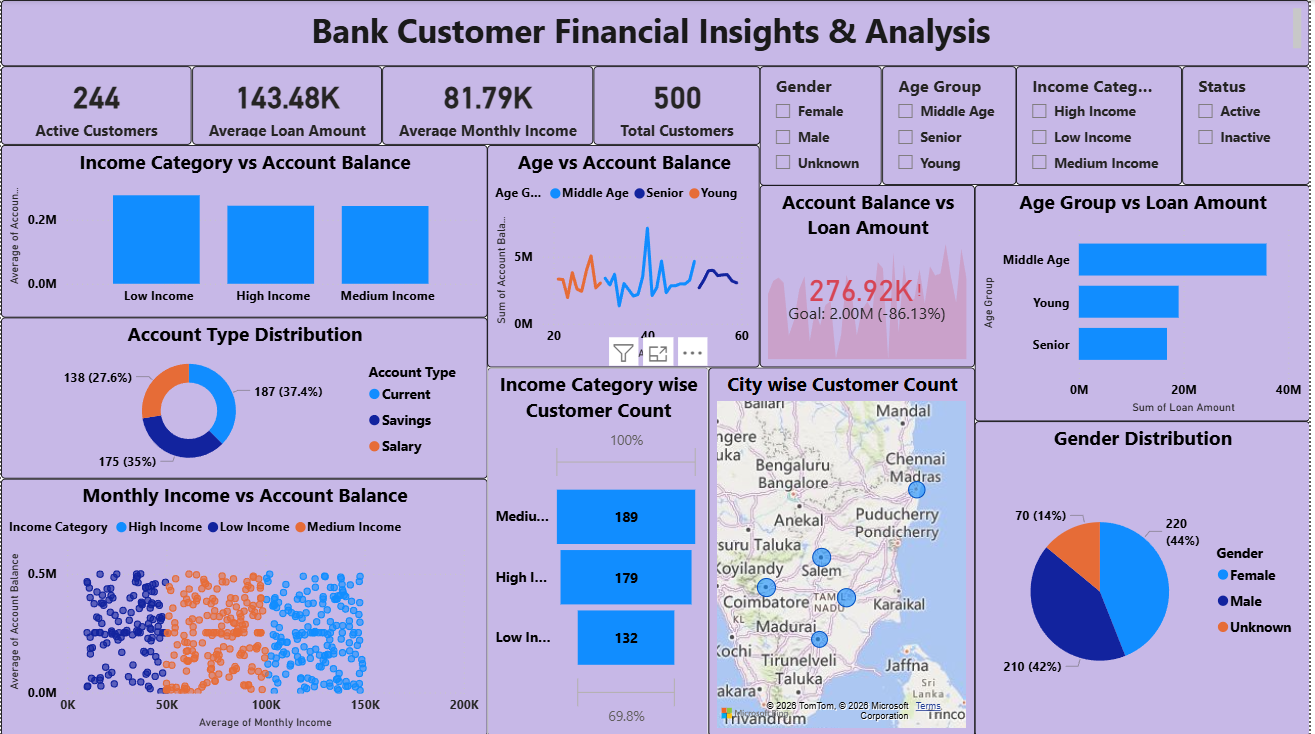

Layout of this report page (visuals, bound fields, positions):
{"tool":"powerbi","page":{"name":"Bank Customer Finance Analysis","canvas":[1280,720],"ordinal":0},"visuals":[{"type":"textbox","box":[0,0,1280.3,64.5],"z":0},{"type":"card","fields":{"Values":["Transformation.Active Customers"]},"box":[0,64.5,186.6,76.8],"z":1000},{"type":"card","fields":{"Values":["Transformation.Average Loan Amount"]},"box":[187.1,64.8,185.9,77],"z":2000},{"type":"card","fields":{"Values":["Transformation.Average Monthly Income"]},"box":[373,64.8,206.7,77],"z":3000},{"type":"card","fields":{"Values":["Transformation.Total Customers"]},"box":[579.1,64.5,163.3,76.8],"z":4000},{"type":"slicer","fields":{"Values":["Transformation.Gender"]},"box":[742.4,64.5,119.4,116.6],"z":5000},{"type":"slicer","fields":{"Values":["Transformation.Age Group"]},"box":[862.1,64.8,130.8,116.2],"z":6000},{"type":"slicer","fields":{"Values":["Transformation.Income Category"]},"box":[992.9,64.8,162.6,116.2],"z":7000},{"type":"slicer","fields":{"Values":["Transformation.Status"]},"box":[1155.6,64.8,124.7,116.2],"z":8000},{"type":"donutChart","title":"Account Type Distribution","fields":{"Category":["Transformation.Account Type"],"Y":["CountNonNull(Transformation.Customer_ID)"]},"box":[0,310.6,475.7,157.7],"z":9000},{"type":"pieChart","title":"Gender Distribution","fields":{"Category":["Transformation.Gender"],"Y":["CountNonNull(Transformation.Customer_ID)"]},"box":[952.6,412.1,327.7,308.2],"z":10000},{"type":"clusteredColumnChart","title":"Income Category vs Account Balance","fields":{"Category":["Transformation.Income Category"],"Y":["Avg(Transformation.Account Balance)"]},"box":[0,141.8,475.7,168.8],"z":11000},{"type":"clusteredBarChart","title":"Age Group vs Loan Amount","fields":{"Category":["Transformation.Age Group"],"Y":["Sum(Transformation.Loan Amount)"]},"box":[952.6,181,327.7,231.1],"z":12000},{"type":"scatterChart","title":"Monthly Income vs Account Balance","fields":{"X":["Avg(Transformation.Monthly Income)"],"Y":["Avg(Transformation.Account Balance)"],"Series":["Transformation.Income Category"],"Category":["Transformation.Customer_ID"]},"box":[0,468.3,475.7,251.9],"z":13000},{"type":"lineChart","title":"Age vs Account Balance","fields":{"Category":["Transformation.Age"],"Y":["Sum(Transformation.Account Balance)"],"Series":["Transformation.Age Group"]},"box":[475.7,141.8,266.6,217.7],"z":14000},{"type":"map","title":"City wise Customer Count","fields":{"Category":["Transformation.City"],"Size":["CountNonNull(Transformation.Customer_ID)"]},"box":[692.1,359.5,260.5,360.7],"z":15000},{"type":"kpi","title":"Account Balance vs Loan Amount","fields":{"Indicator":["Avg(Transformation.Account Balance)"],"TrendLine":["Transformation.Age"],"Goal":["Sum(Transformation.Loan Amount)"]},"box":[742.3,181,210.3,178.5],"z":16000},{"type":"funnel","title":"Income Category wise Customer Count","fields":{"Category":["Transformation.Income Category"],"Y":["CountNonNull(Transformation.Customer_ID)"]},"box":[475.7,359.5,216.4,360.7],"z":17000}]}

Visuals, with their boxes in screenshot pixels (x1, y1, x2, y2), scaled from the page's 1280x720 canvas onto the 1315x734 screenshot:
textbox: <bbox>0, 0, 1314, 66</bbox>
card - Transformation.Active Customers: <bbox>0, 66, 192, 144</bbox>
card - Transformation.Average Loan Amount: <bbox>192, 66, 383, 145</bbox>
card - Transformation.Average Monthly Income: <bbox>383, 66, 596, 145</bbox>
card - Transformation.Total Customers: <bbox>595, 66, 763, 144</bbox>
slicer - Transformation.Gender: <bbox>763, 66, 885, 185</bbox>
slicer - Transformation.Age Group: <bbox>886, 66, 1020, 185</bbox>
slicer - Transformation.Income Category: <bbox>1020, 66, 1187, 185</bbox>
slicer - Transformation.Status: <bbox>1187, 66, 1314, 185</bbox>
"Account Type Distribution" donutChart: <bbox>0, 317, 489, 477</bbox>
"Gender Distribution" pieChart: <bbox>979, 420, 1314, 733</bbox>
"Income Category vs Account Balance" clusteredColumnChart: <bbox>0, 145, 489, 317</bbox>
"Age Group vs Loan Amount" clusteredBarChart: <bbox>979, 185, 1314, 420</bbox>
"Monthly Income vs Account Balance" scatterChart: <bbox>0, 477, 489, 733</bbox>
"Age vs Account Balance" lineChart: <bbox>489, 145, 763, 366</bbox>
"City wise Customer Count" map: <bbox>711, 366, 979, 733</bbox>
"Account Balance vs Loan Amount" kpi: <bbox>763, 185, 979, 366</bbox>
"Income Category wise Customer Count" funnel: <bbox>489, 366, 711, 733</bbox>
